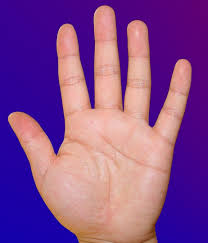palm: (7, 4, 195, 240)
